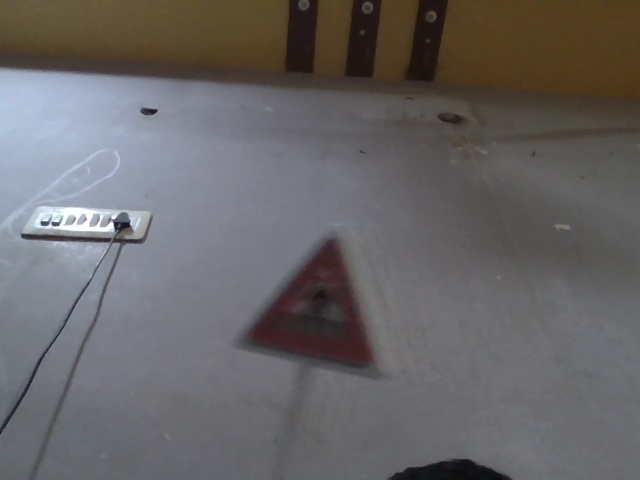crossing: (234, 225, 369, 375)
